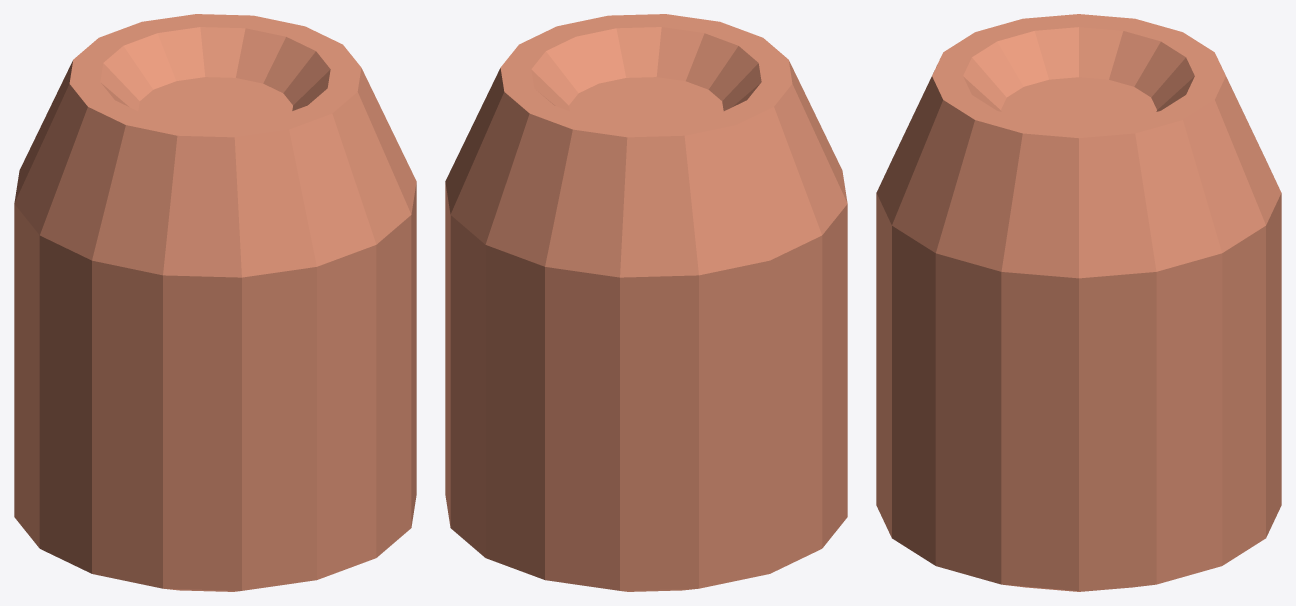
3 views of the same model, side by side, from view 1: azimuth 30°, elevation 25°; view 2: azimuth 150°, elevation 25°; view 3: azimuth 270°, elevation 25° (orthographic).
Visible parts, largest first — view 1: Cylinder.006; view 2: Cylinder.006; view 3: Cylinder.006.
Boxes of the visible parts, x1=… form: Cylinder.006: x1=14, y1=14, x2=416, y2=591; Cylinder.006: x1=445, y1=14, x2=847, y2=591; Cylinder.006: x1=876, y1=14, x2=1281, y2=591.
Bounding box in the file's own units: 1.26 × 1.57 × 1.26.
